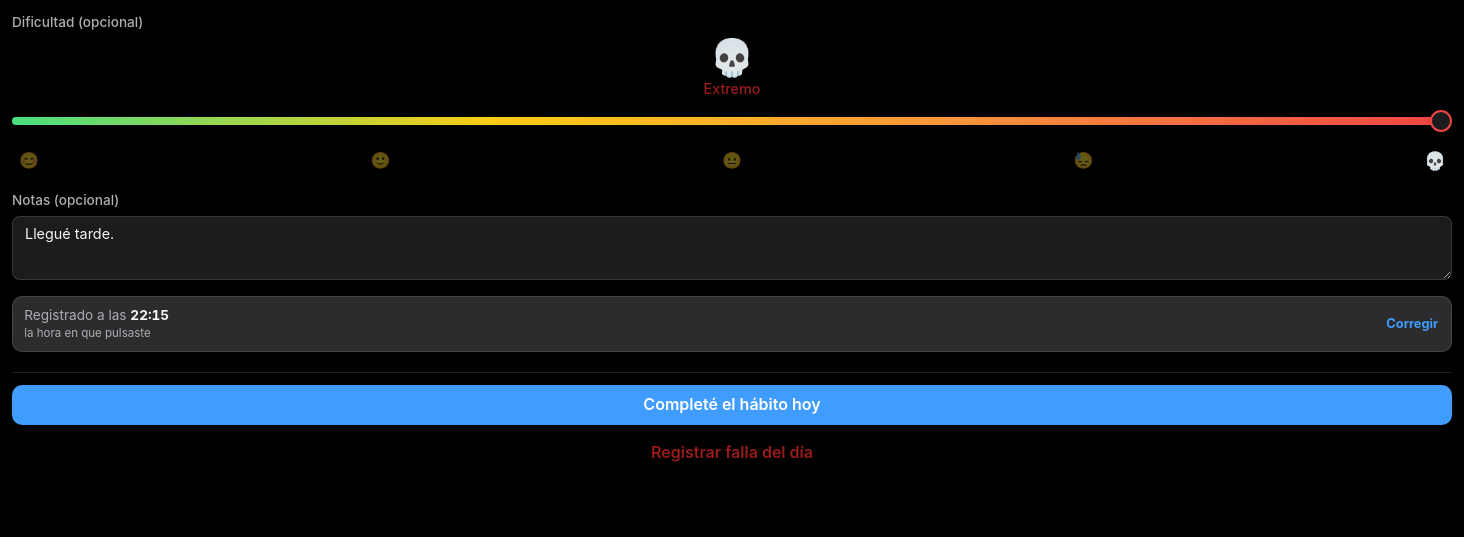
Test case: HabitFollowUpForm · la línea de la hora › cancelar no manda nada
The width and height of the screenshot is (1464, 537).
What coordinates should you click on to do the following:
click the button "Corregir"
I would click on:
 (1412, 324)
Its box is 1385,313 -> 1440,335.
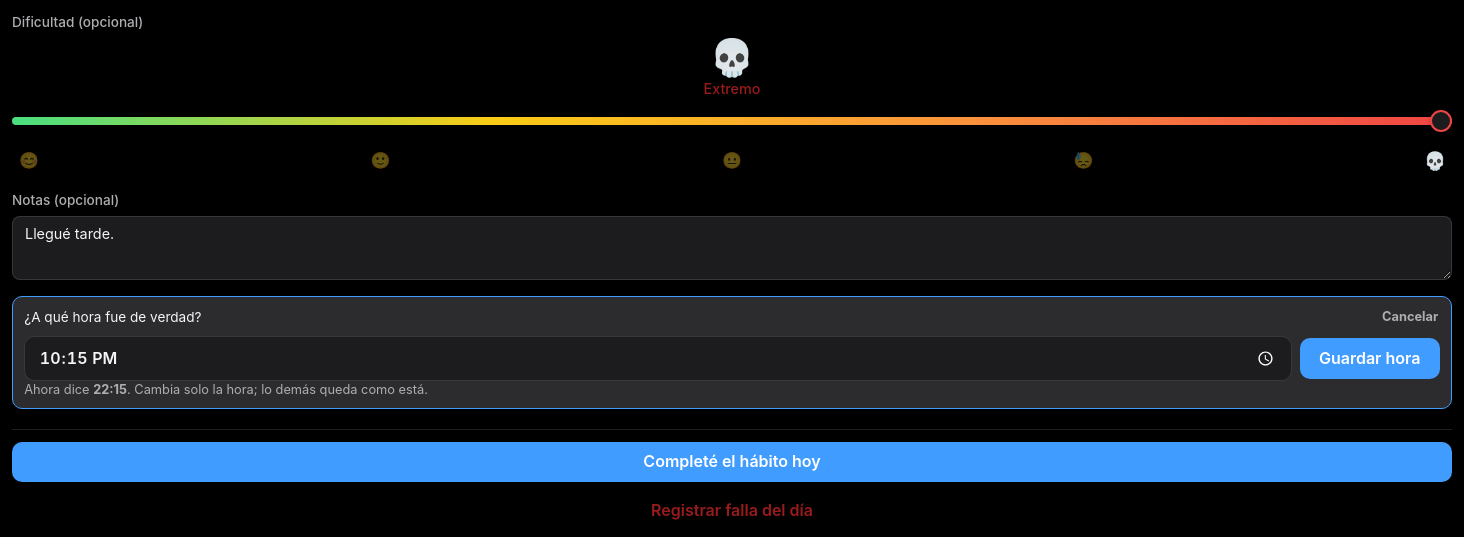
What coordinates should you click on to do the following:
click the button "Cancelar"
I would click on:
 (1410, 317)
Its box is 1380,306 -> 1440,328.
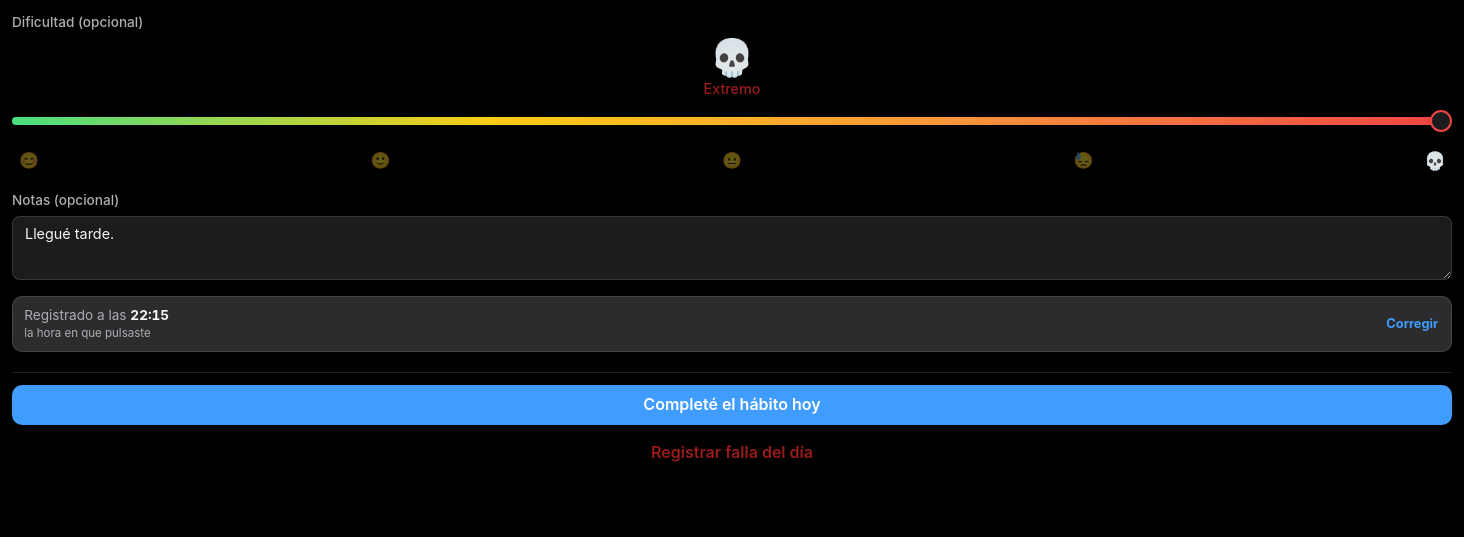
expect the text "Registrado a las 22:15 la hora en que pulsaste" is shown: met, box 24,306 -> 169,342
